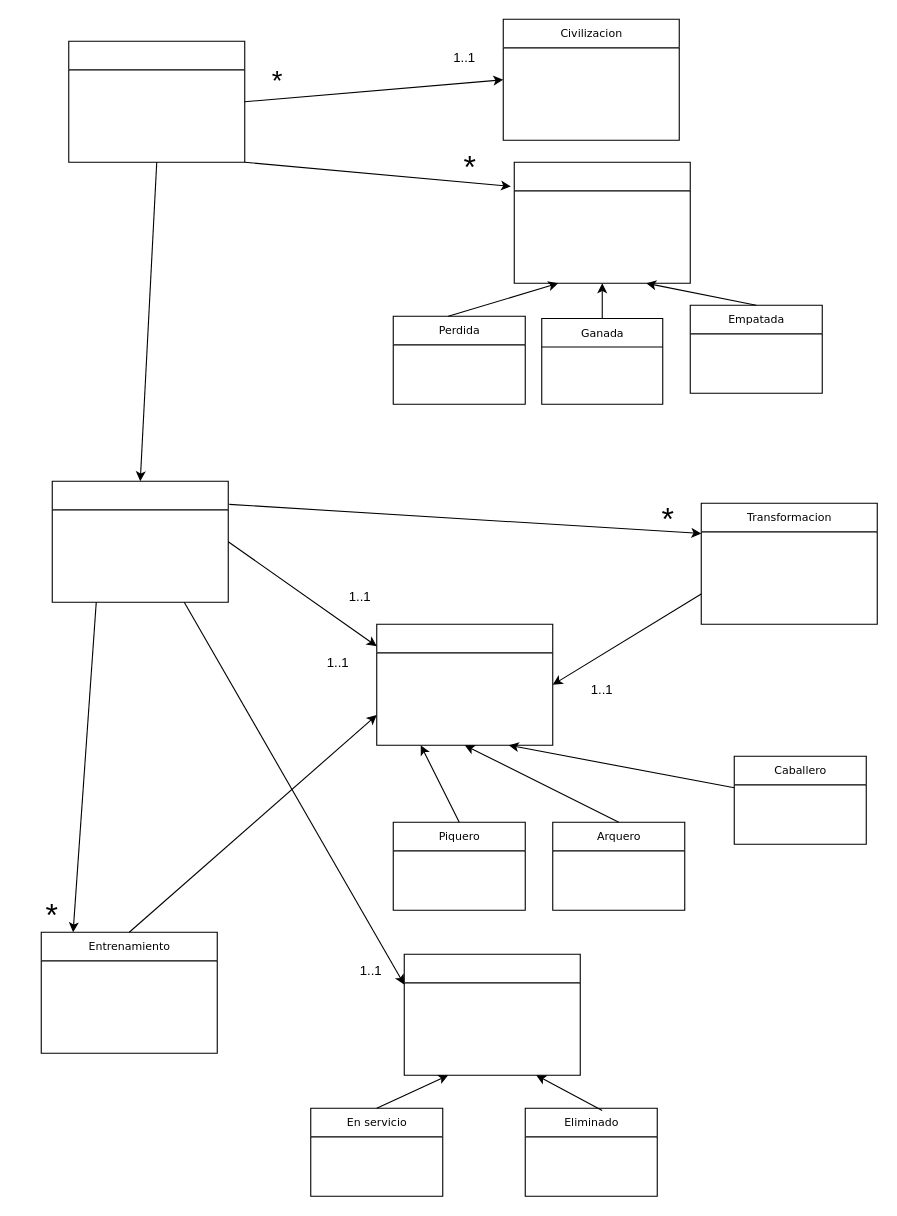
Some shapes in this 897 by 1216 pixel diagram are drawn without their labels. The centre of each missing label's shape, as x and y in pixels:
"Batalla" belongs at point 601,222.
"Categoria" belongs at point 464,684.
"Ejercito" belongs at point 156,101.
"Estado" belongs at point 491,1014.
"Unidad" belongs at point 139,541.
